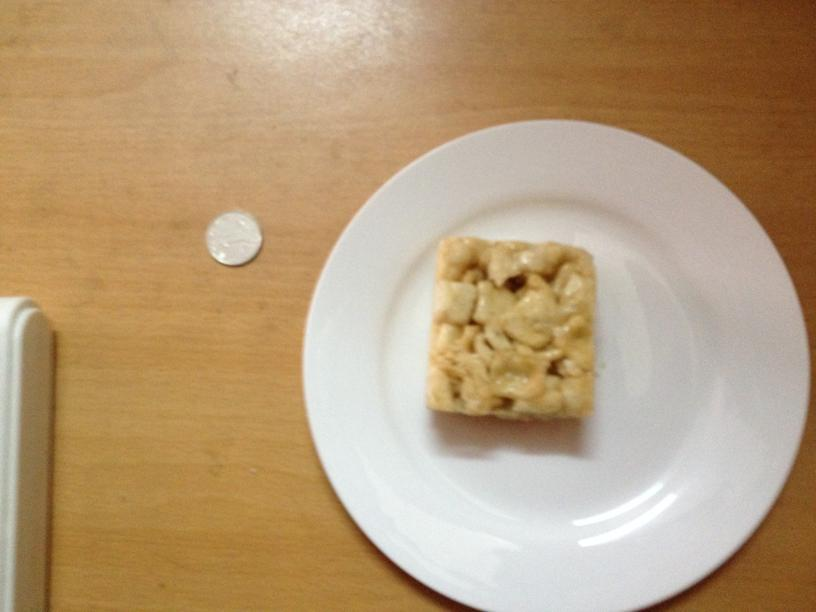coin: (206, 213, 260, 271)
sachima: (426, 237, 595, 419)
